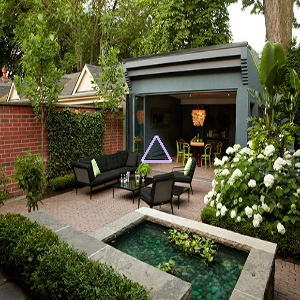triangle: (139, 133, 174, 167)
